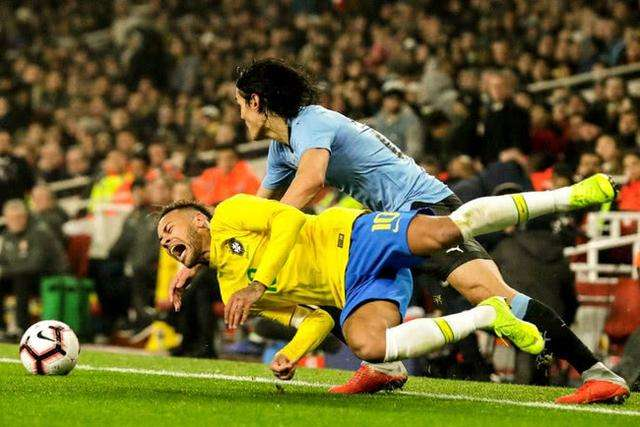10+: (9, 1, 637, 306)
down: (224, 59, 627, 402), (158, 172, 629, 402)
